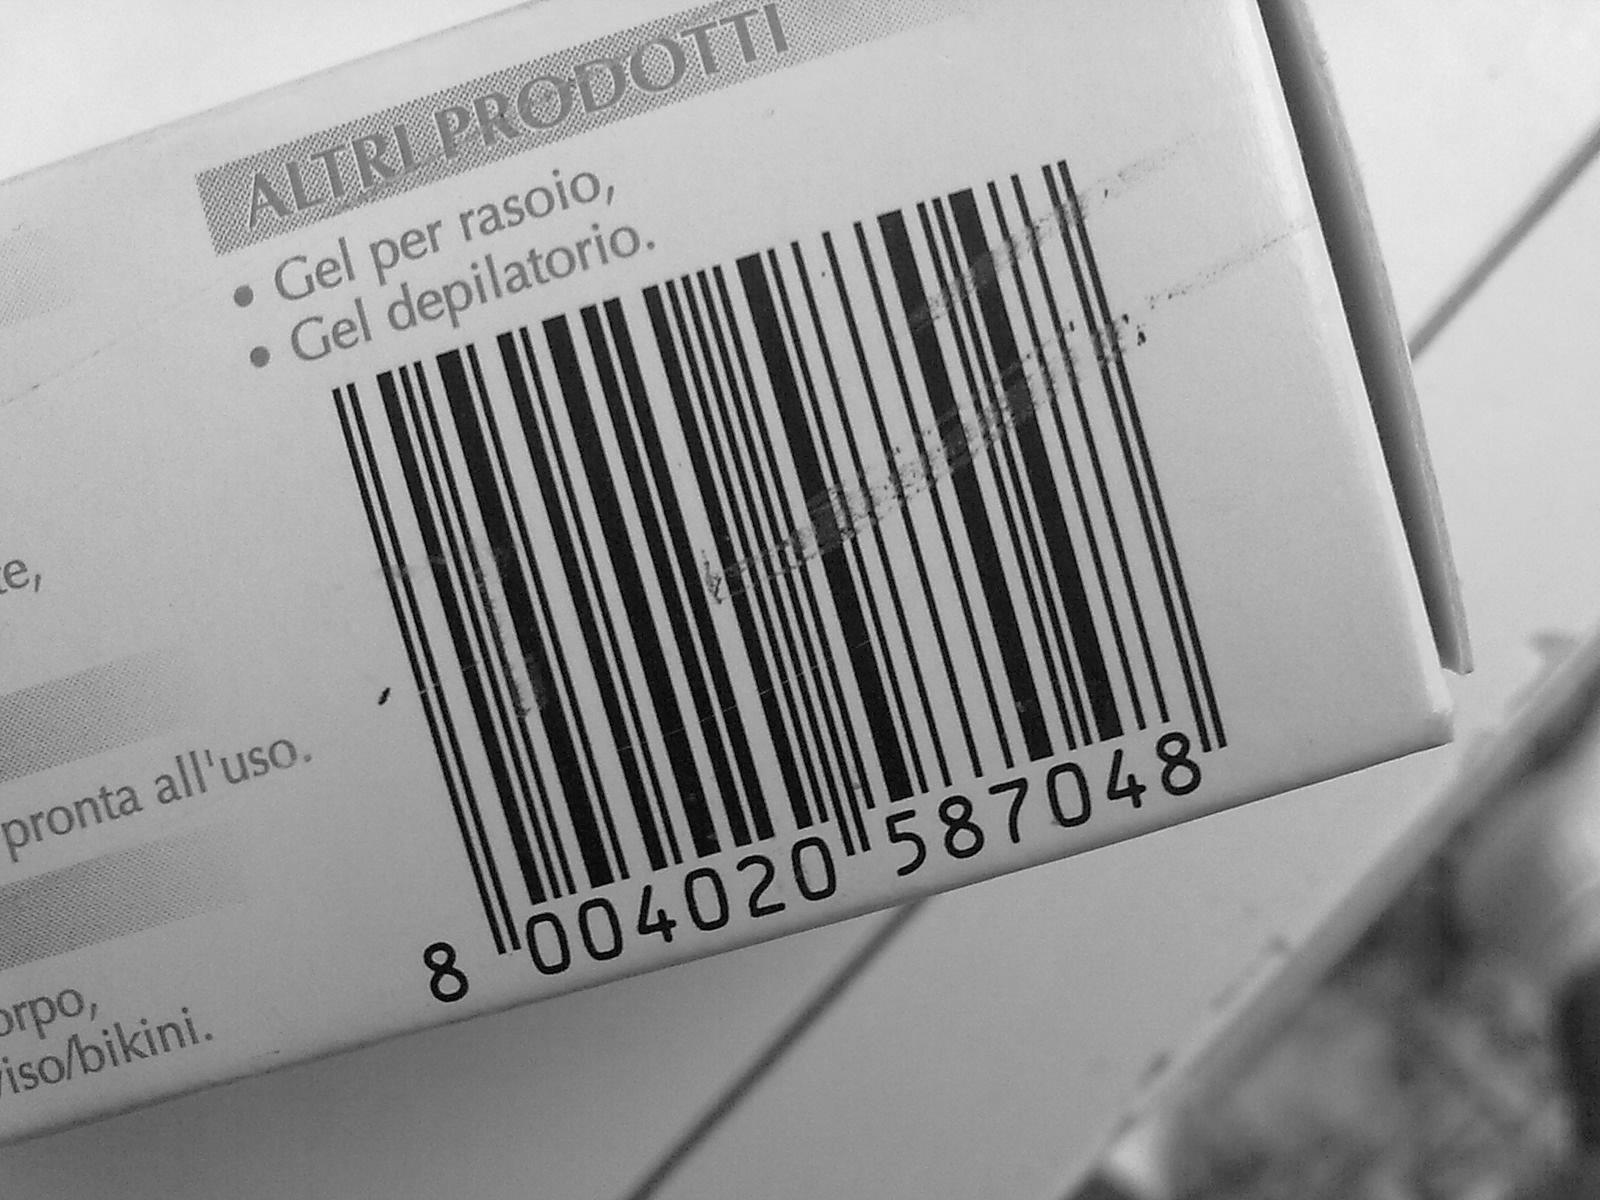Barcode: (316, 118, 1221, 934)
